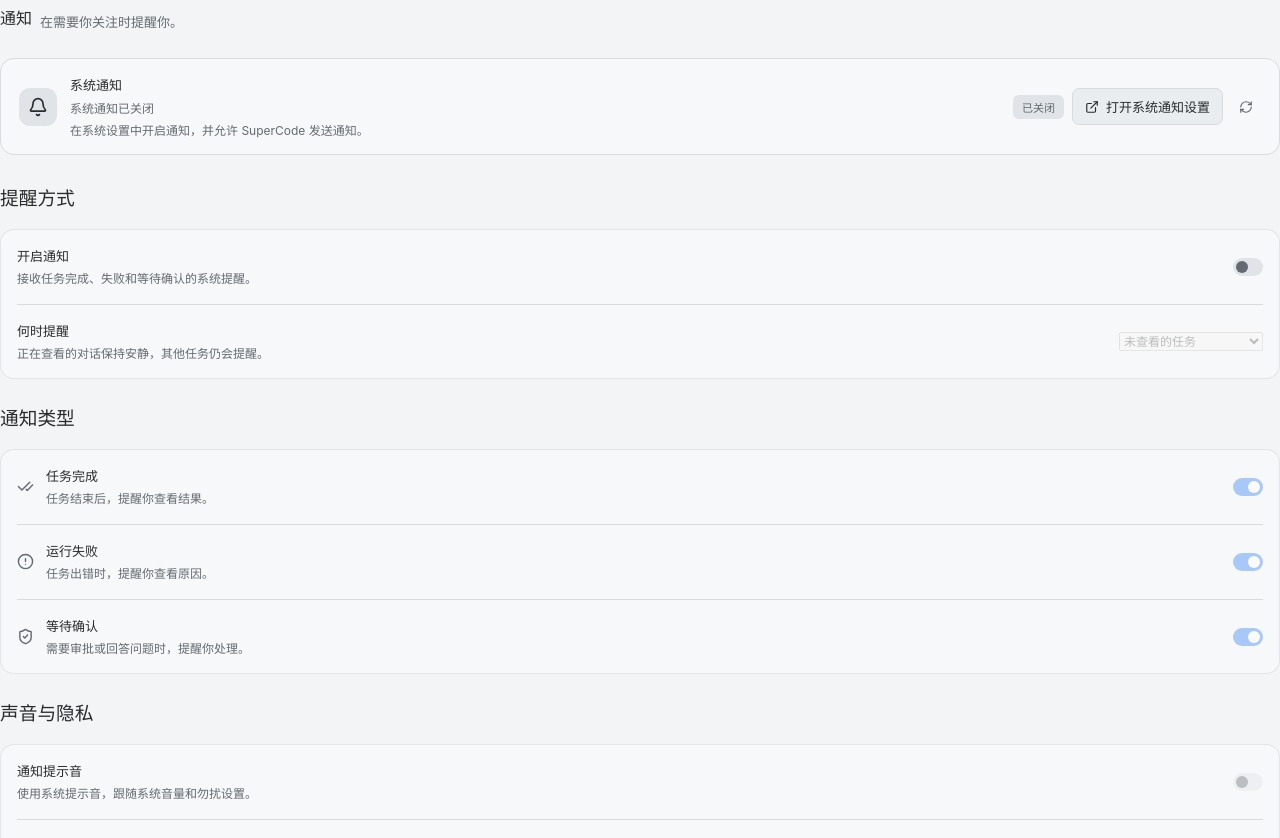
Test: shows a manual path on launch failure and clears the error on retry without claiming permission
The width and height of the screenshot is (1280, 838).
Click the button with aria-label "打开系统通知设置". click: {"x": 1148, "y": 106}
box: x1=1072 y1=88 x2=1223 y2=125
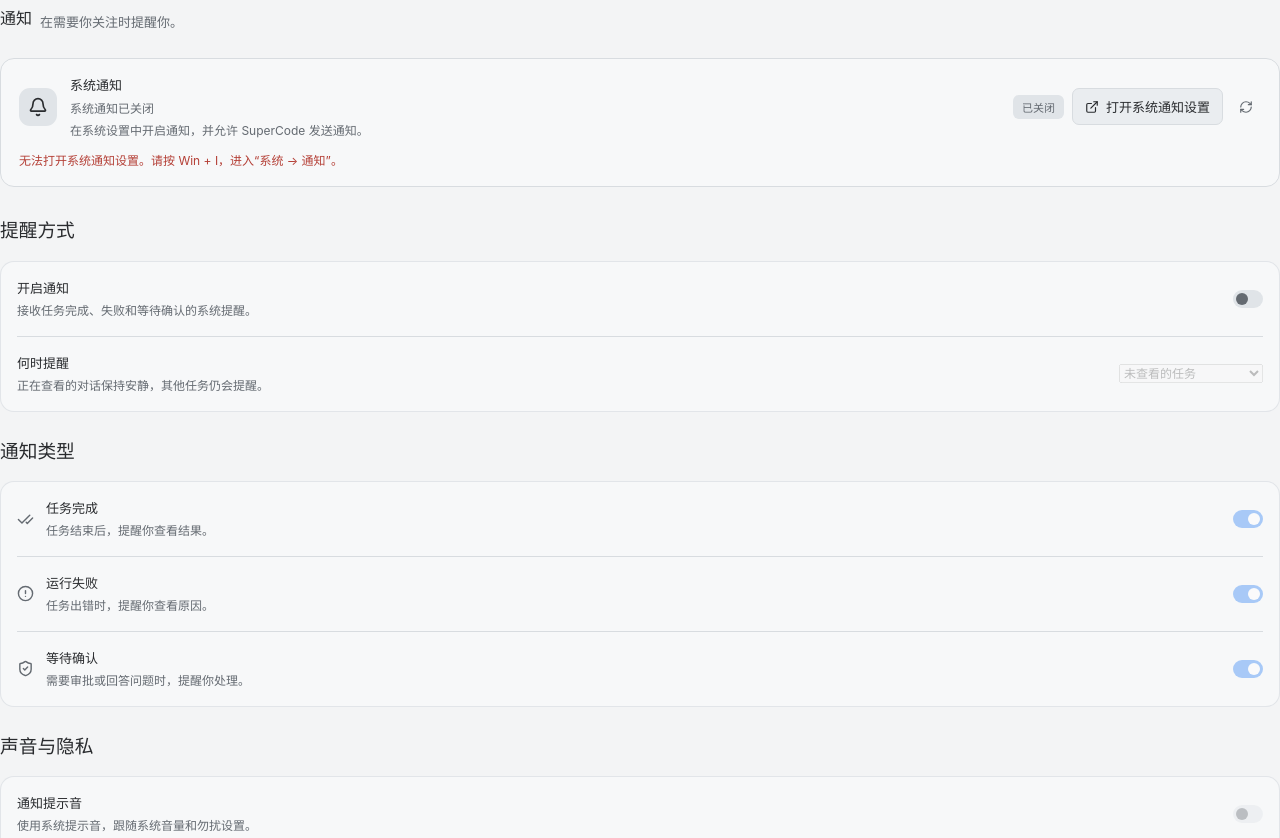
Expected: the text with class "notification-status-badge" reads "已关闭", x1=1022 y1=100 x2=1055 y2=114
Result: the message "无法打开系统通知设置。请按 Win + I，进入“系统 → 通知”。" is shown at x1=19 y1=153 x2=343 y2=168
Click the button with aria-label "打开系统通知设置". click: {"x": 1148, "y": 106}
box: x1=1072 y1=88 x2=1223 y2=125
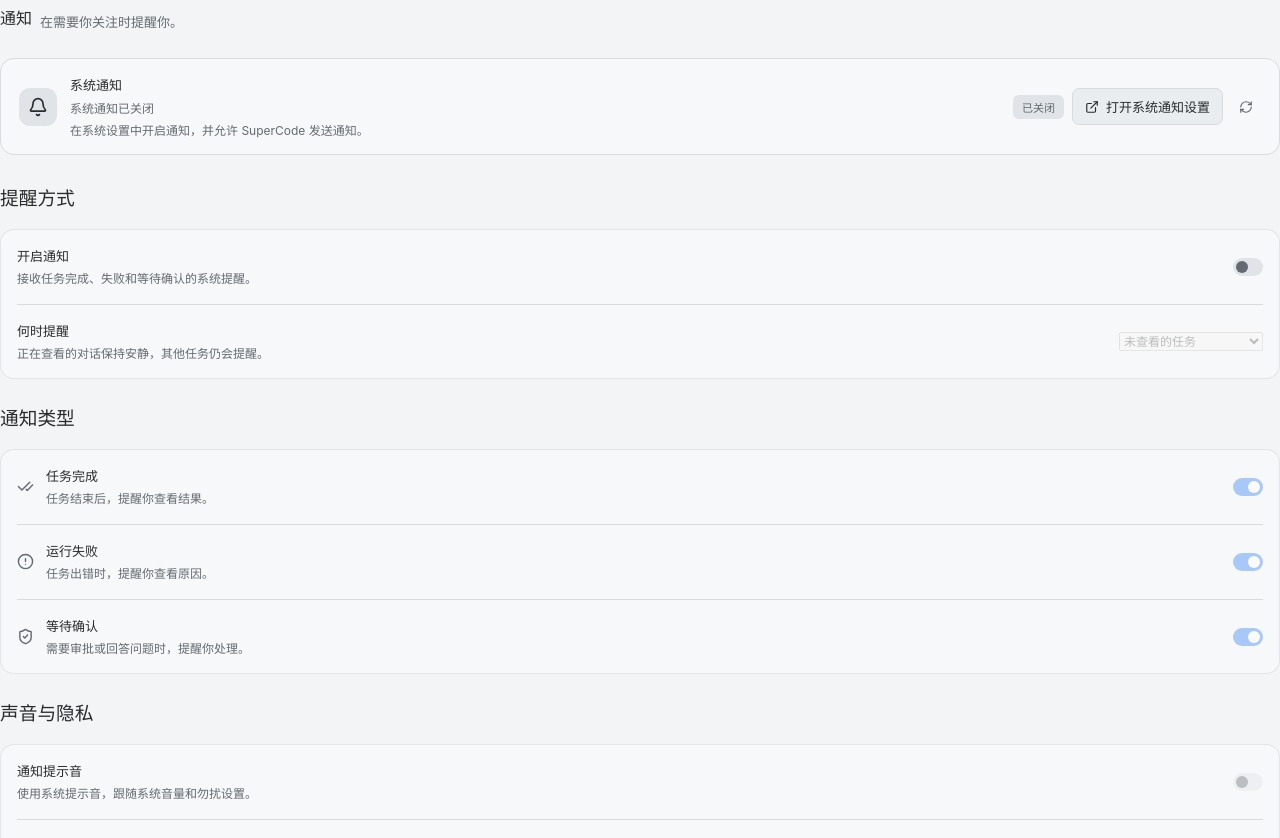
Expected: the text with class "notification-status-badge" reads "已关闭", x1=1022 y1=100 x2=1055 y2=114
Result: the message "无法打开系统通知设置。请按 Win + I，进入“系统 → 通知”。" is gone
